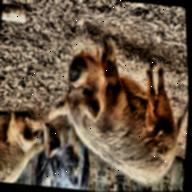boar: (49, 32, 192, 182), (15, 132, 93, 191), (0, 101, 53, 187)
